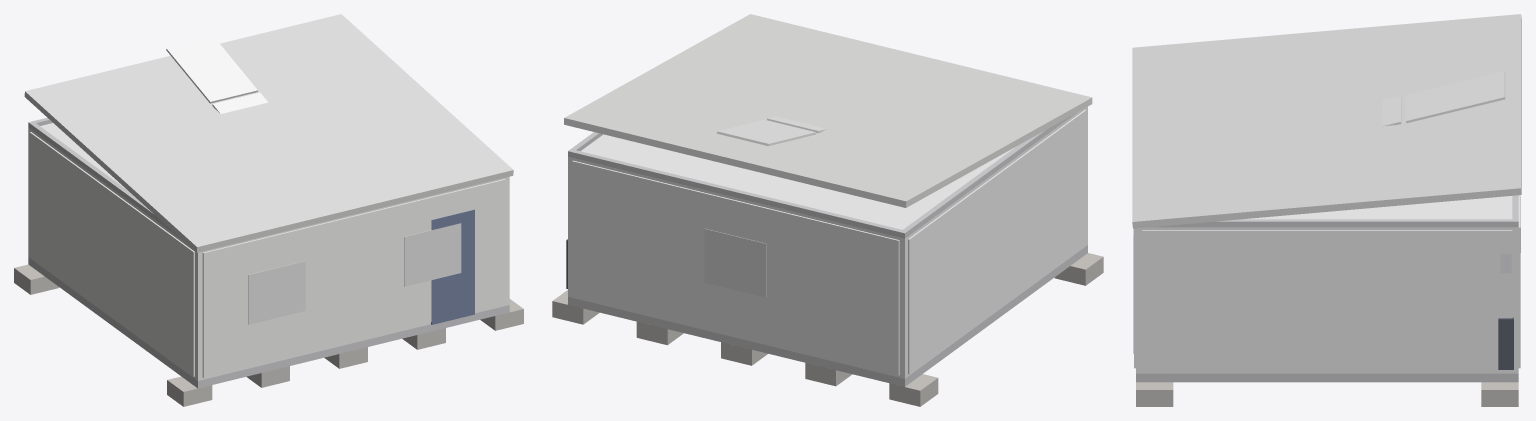
Rendered from Studio-20-SlopingRoof+FullSolar-LOD0.glb.
3 renders of one model, left to right at view 1: azimuth 30°, elevation 25°; view 2: azimuth 150°, elevation 25°; view 3: azimuth 270°, elevation 25°, orthographic. The views are drawn at different scales.
Visible parts, largest first — view 1: RoofSlopingUpgrade, ExteriorPanelsStandard, WindowsStandard, FoundationBlocks, SolarPanelArray, ExteriorShell, BaseFrame, EntryDoor, TopFrame, InteriorCeiling; view 2: ExteriorPanelsStandard, RoofSlopingUpgrade, InteriorCeiling, ExteriorShell, FoundationBlocks, TopFrame, BaseFrame, WindowsStandard, SolarPanelArray; view 3: RoofSlopingUpgrade, ExteriorPanelsStandard, ExteriorShell, BaseFrame, SolarPanelArray, InteriorCeiling, TopFrame, FoundationBlocks, SolarBattery.
Part boxes in pixels (x1,y1,x2,y2): RoofSlopingUpgrade: (24, 14, 513, 252); ExteriorPanelsStandard: (29, 132, 505, 377); WindowsStandard: (248, 223, 461, 324); FoundationBlocks: (14, 264, 523, 406); SolarPanelArray: (166, 37, 268, 113); ExteriorShell: (28, 127, 509, 380); BaseFrame: (28, 257, 509, 388); EntryDoor: (431, 209, 474, 324); TopFrame: (28, 117, 181, 239); InteriorCeiling: (40, 123, 125, 188); ExteriorPanelsStandard: (572, 109, 1086, 375); RoofSlopingUpgrade: (564, 14, 1092, 207); InteriorCeiling: (581, 134, 1016, 229); ExteriorShell: (568, 106, 1087, 378); FoundationBlocks: (552, 253, 1103, 406); TopFrame: (568, 113, 1075, 238); BaseFrame: (568, 245, 1087, 386); WindowsStandard: (704, 228, 766, 297); SolarPanelArray: (717, 116, 826, 146); RoofSlopingUpgrade: (1132, 14, 1521, 228); ExteriorPanelsStandard: (1134, 195, 1520, 371); ExteriorShell: (1136, 227, 1518, 373); BaseFrame: (1136, 373, 1518, 382); SolarPanelArray: (1382, 71, 1505, 126); InteriorCeiling: (1244, 196, 1512, 219); TopFrame: (1151, 195, 1518, 227); FoundationBlocks: (1136, 382, 1518, 406); SolarBattery: (1498, 317, 1513, 369).
Bounding box in the file's own units: 7.14 × 4.07 × 6.27.
